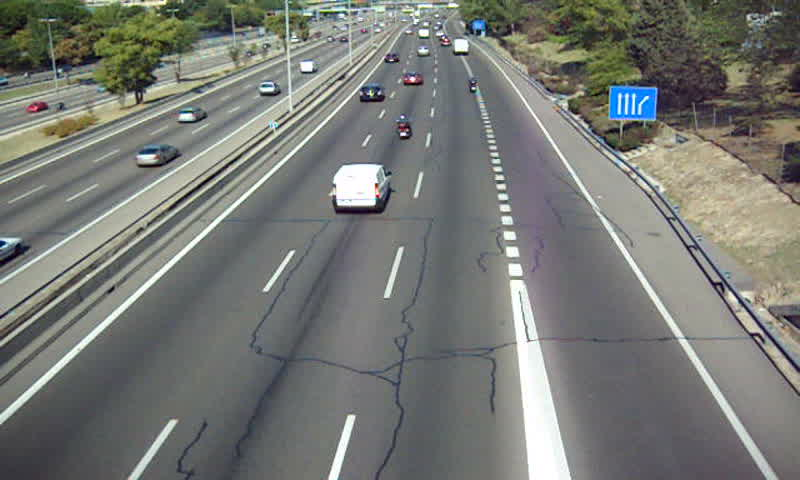car: (355, 82, 386, 105), (402, 72, 422, 86), (384, 52, 399, 65)
motorcycle: (395, 114, 412, 140), (467, 76, 477, 96)
van: (330, 163, 390, 213), (454, 38, 470, 56)
